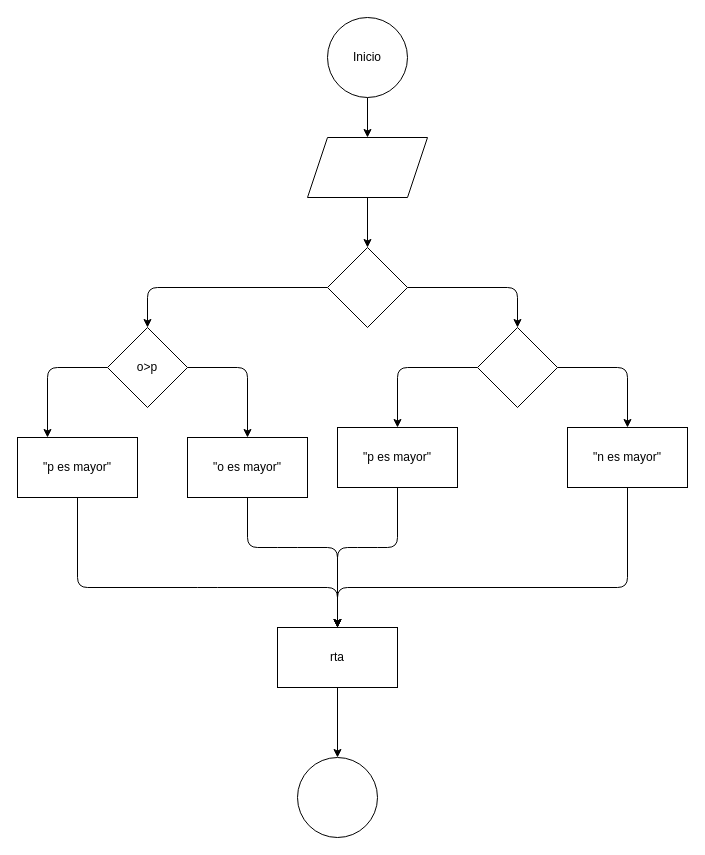
Some shapes in this 705 by 855 pixel diagram are drawn without their labels. Here are the shapes that lost their labels. From the top down, the box of each, then its label:
(306, 136, 428, 198): n,o,p
(326, 246, 408, 328): n>o
(476, 326, 558, 408): n>p
(296, 756, 378, 838): Fin
